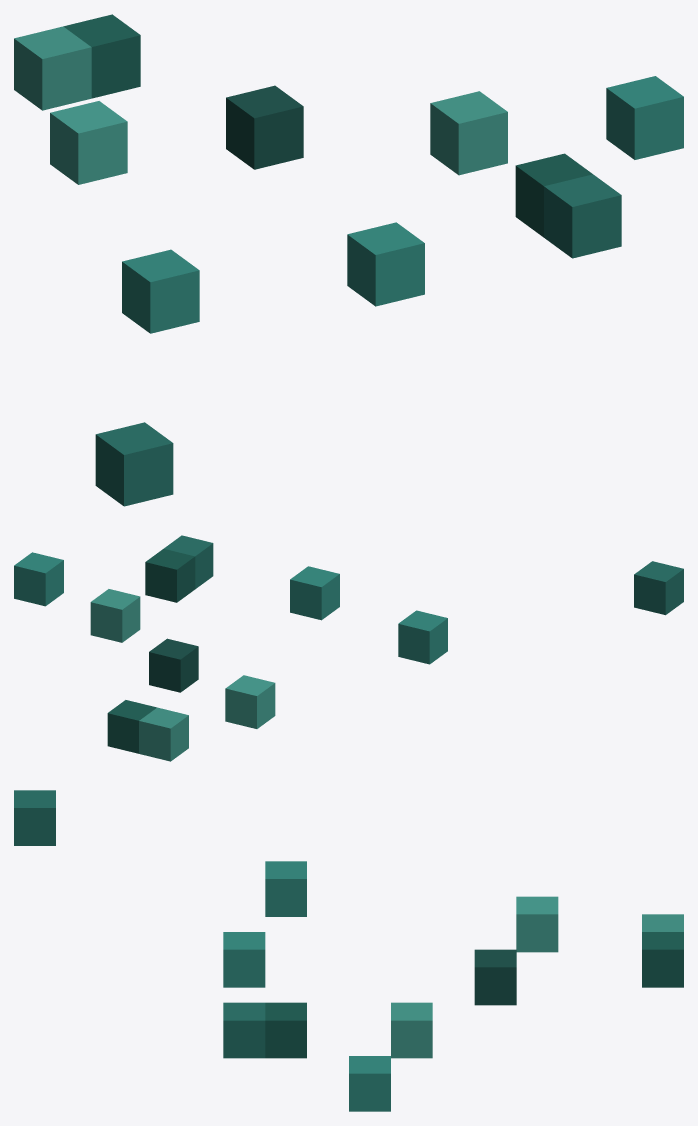
Rendered from float_teal.glb.
3 renders of one model, top to bottom at view 1: azimuth 30°, elevation 25°; view 2: azimuth 150°, elevation 25°; view 3: azimuth 270°, elevation 25°, orthographic. The views are drawn at different scales.
Parts seen in each view (by area): view 1: float_teal; view 2: float_teal; view 3: float_teal.
Part boxes in pixels (x1,y1,x2,y2): float_teal: [14, 14, 683, 506]; float_teal: [14, 535, 683, 761]; float_teal: [14, 790, 683, 1111].
Size of the model in its own units: 1 by 0.0625 by 1.
